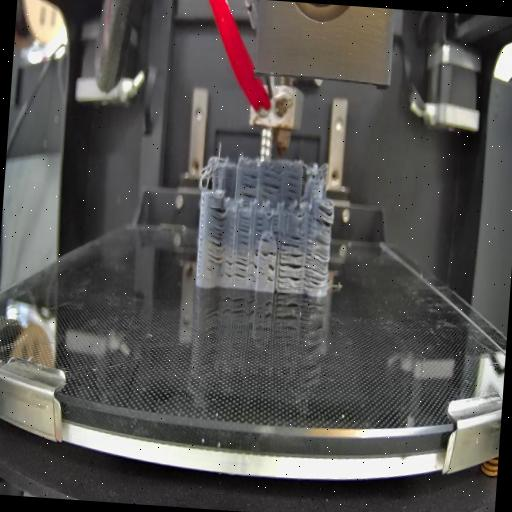cracks: (302, 203, 336, 292), (277, 234, 304, 290), (205, 204, 226, 267), (222, 252, 248, 284), (260, 172, 282, 200), (240, 170, 258, 198), (283, 172, 299, 202), (248, 246, 259, 284), (238, 215, 250, 247), (266, 264, 276, 284), (272, 212, 280, 236), (254, 216, 263, 236), (260, 248, 276, 258), (260, 237, 270, 244)
